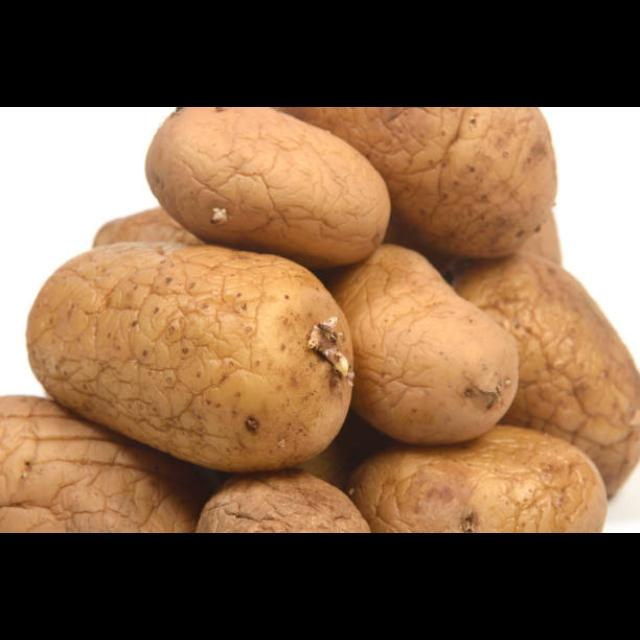Damaged potato: (320, 226, 512, 436), (344, 401, 612, 533), (0, 383, 208, 533)
Sprouted potato: (29, 238, 364, 477), (154, 108, 396, 264)
